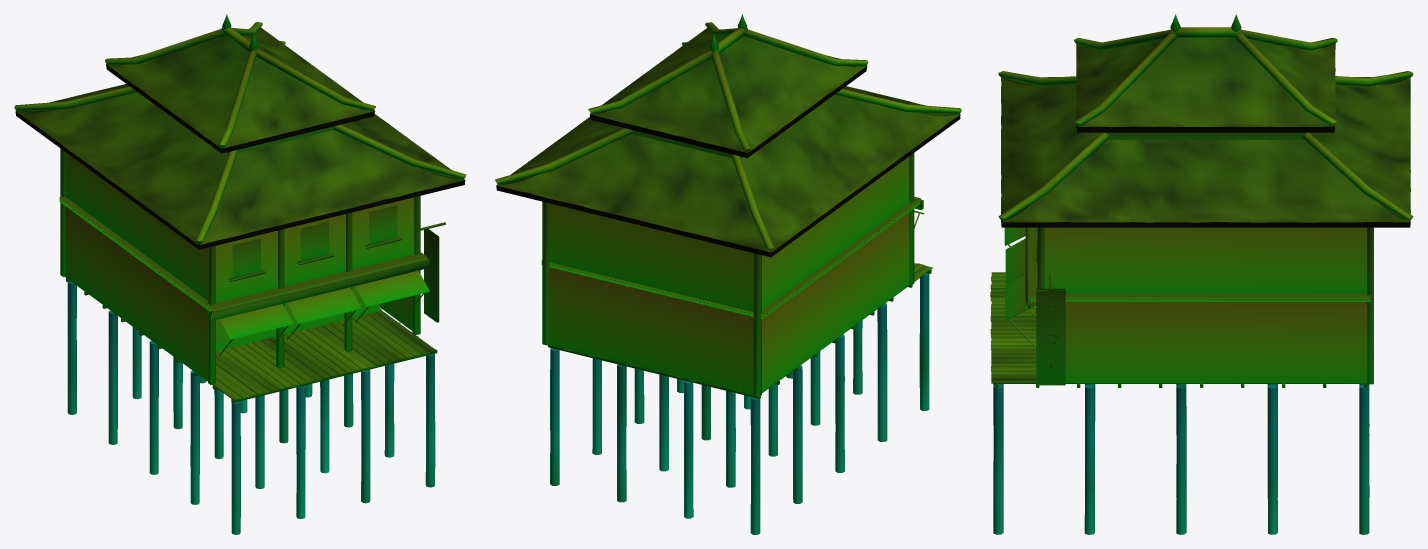
File: shophouse_a.glb
The picture shows the model from 3 angles, left to right: view 1: azimuth 30°, elevation 25°; view 2: azimuth 150°, elevation 25°; view 3: azimuth 270°, elevation 25°; orthographic projection. The views are drawn at different scales.
Parts seen in each view (by area): view 1: shophouse_a; view 2: shophouse_a; view 3: shophouse_a.
Part boxes in pixels (x1,y1,x2,y2): shophouse_a: (14,14,466,534); shophouse_a: (495,14,961,534); shophouse_a: (990,14,1413,534).
Size of what is drawn, in the model's own units: 10.6 by 15.6 by 12.84.
